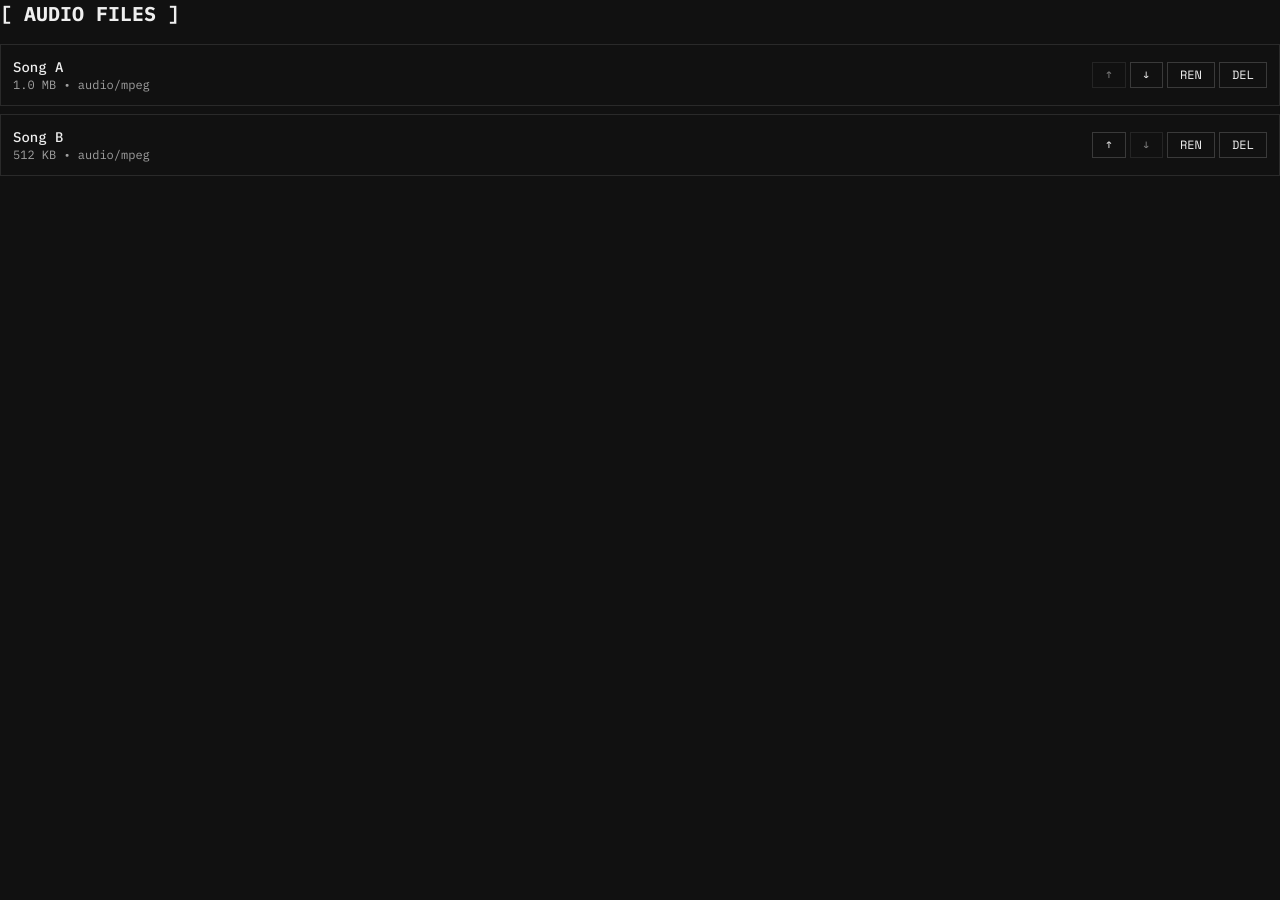
it: AudioManager › should show error toast when delete fetch fails
Expected: the text "Song A" is shown, [13,58,63,76]
Click the button "DEL" in the row of "Song A": (1243, 75) [1219,62,1267,88]
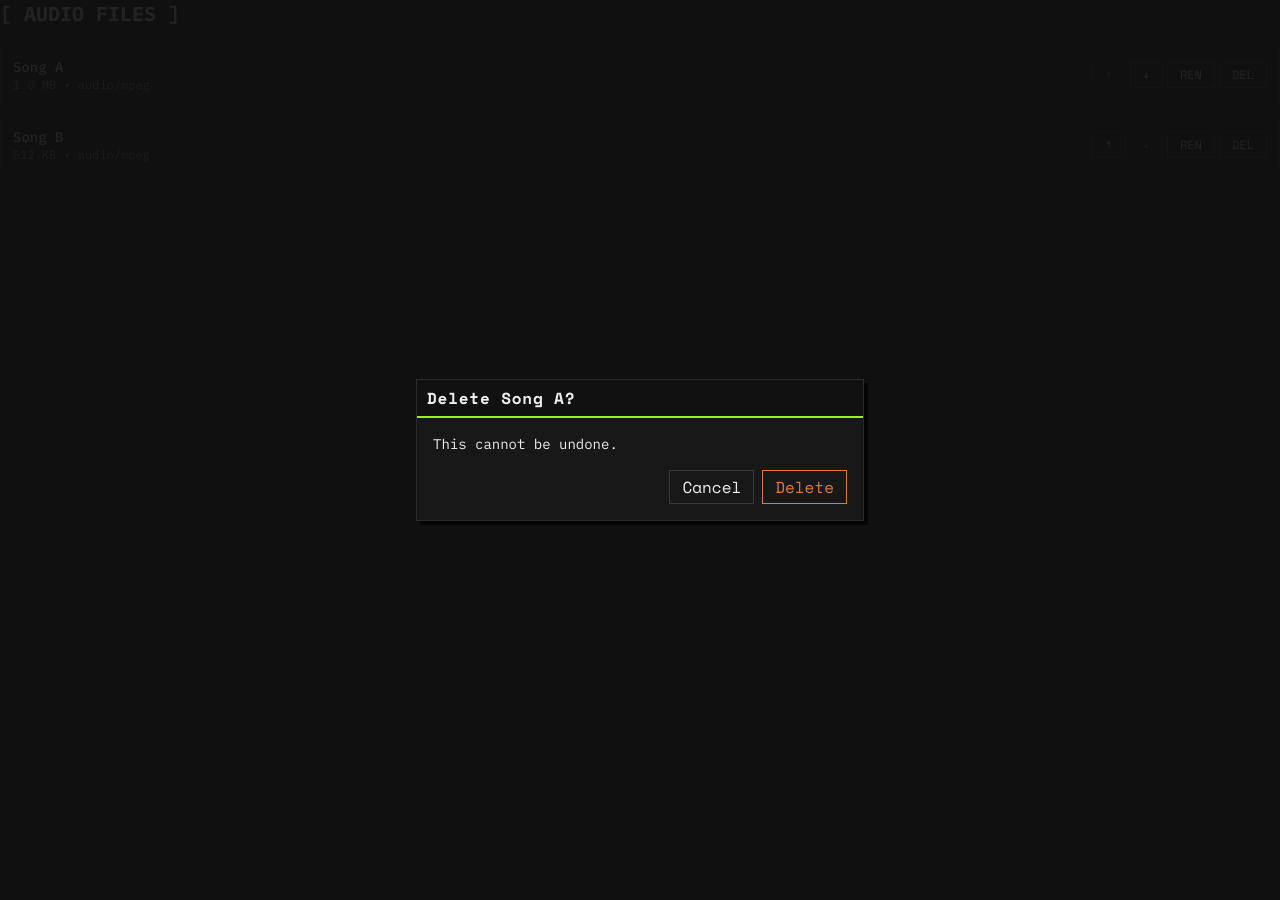
Now the button "Delete" is shown
Click the button "Delete": (805, 487) [762,470,847,504]
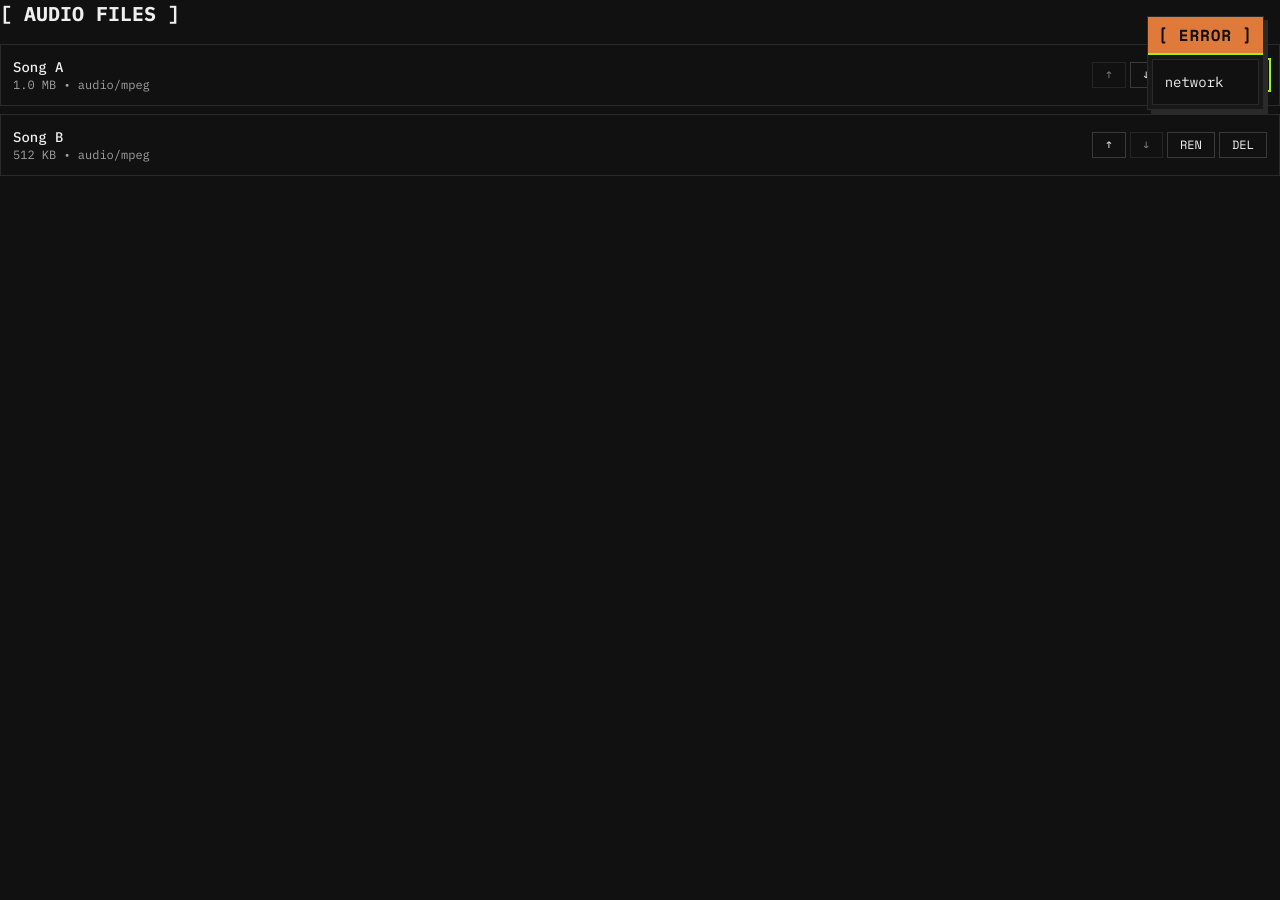
Now the message shows "network", box [1165,73,1224,91]
